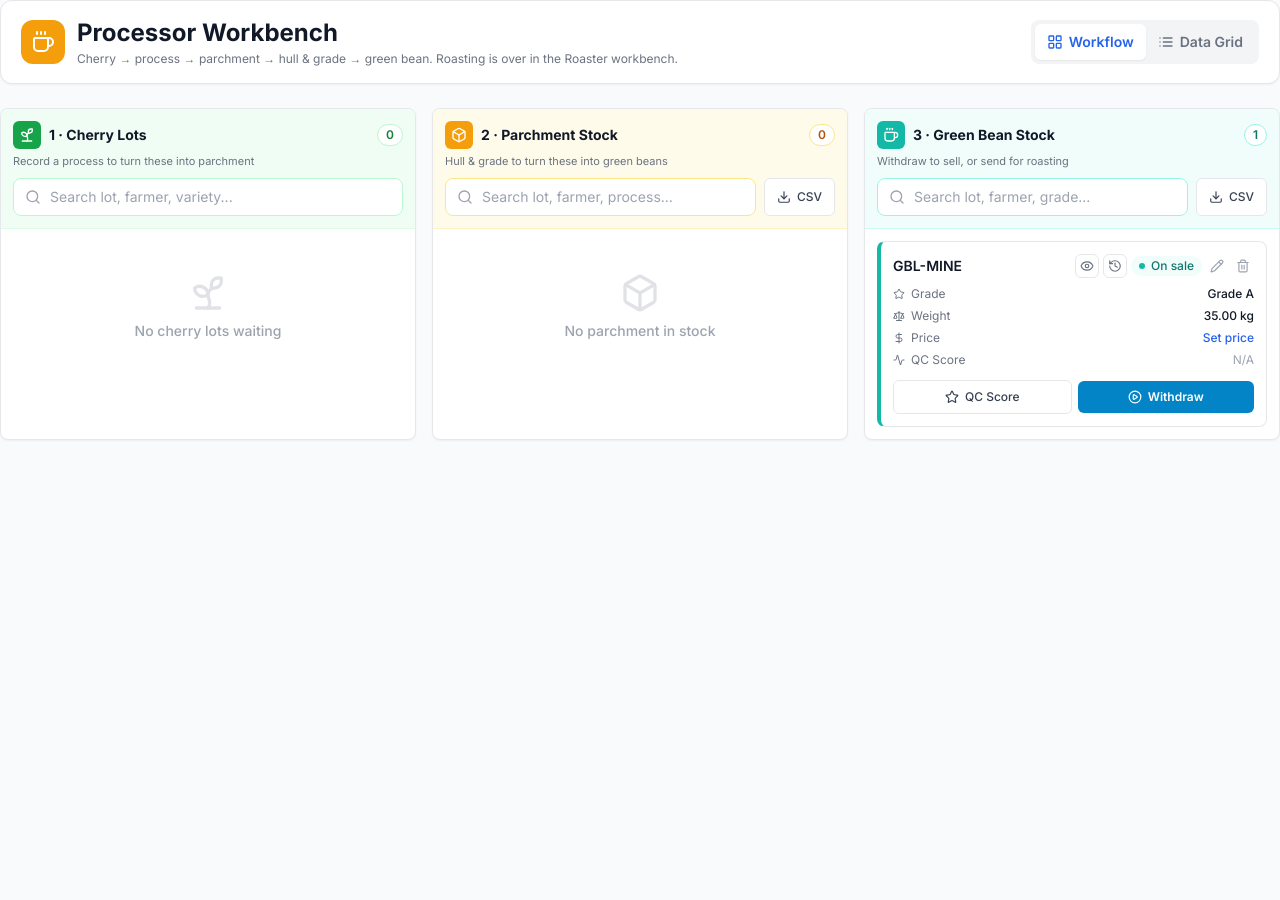
Test: Workbench withdrawal Void and Edit (D7) › shows a voided row struck through with its reason, and leaves it out of the totals
Click the button "Data Grid".
click(1200, 42)  # box [1146,24,1255,60]
(page scrolled)
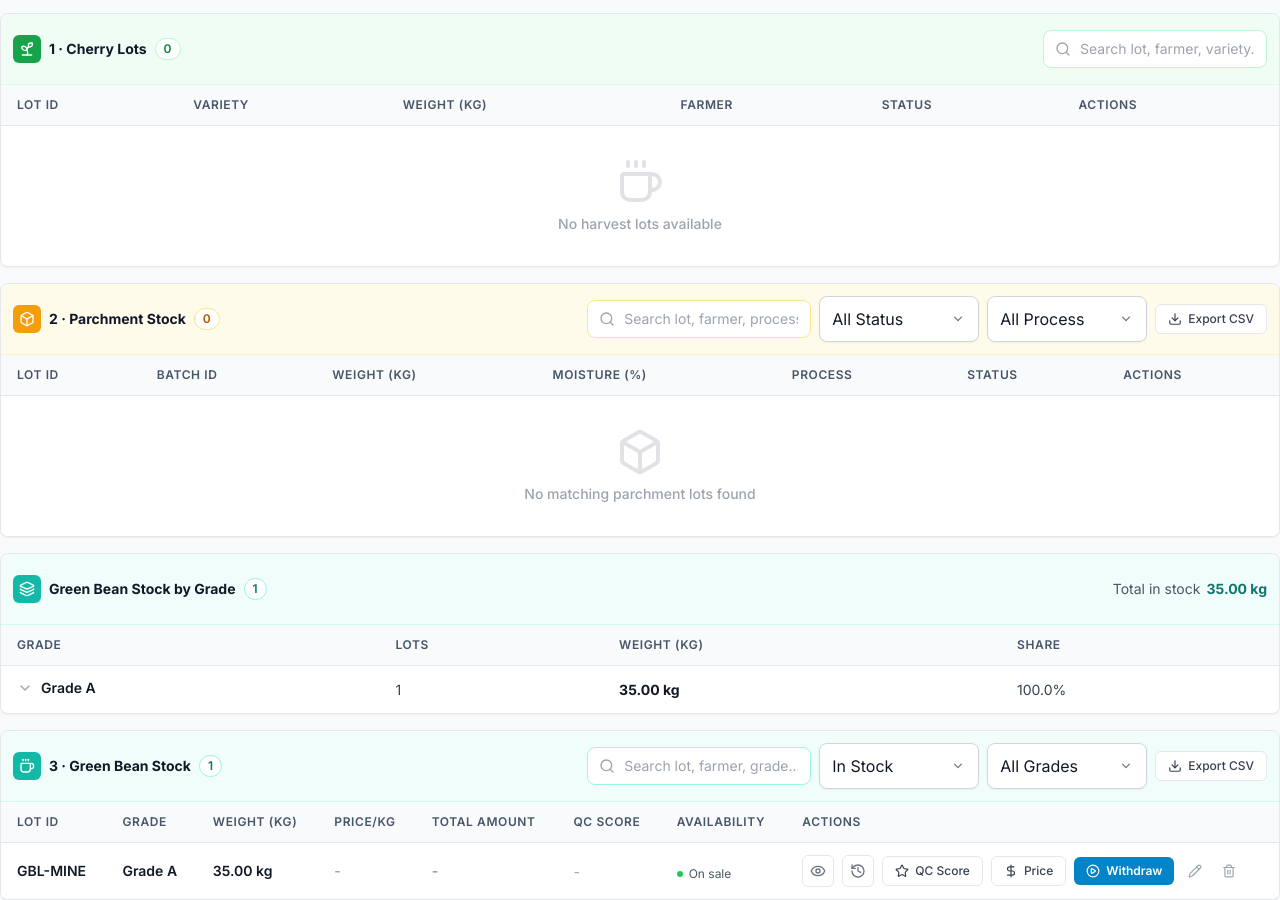
Click the button named "Withdrawal history of green bean lot ".
click(858, 871)  # box [842,855,874,887]
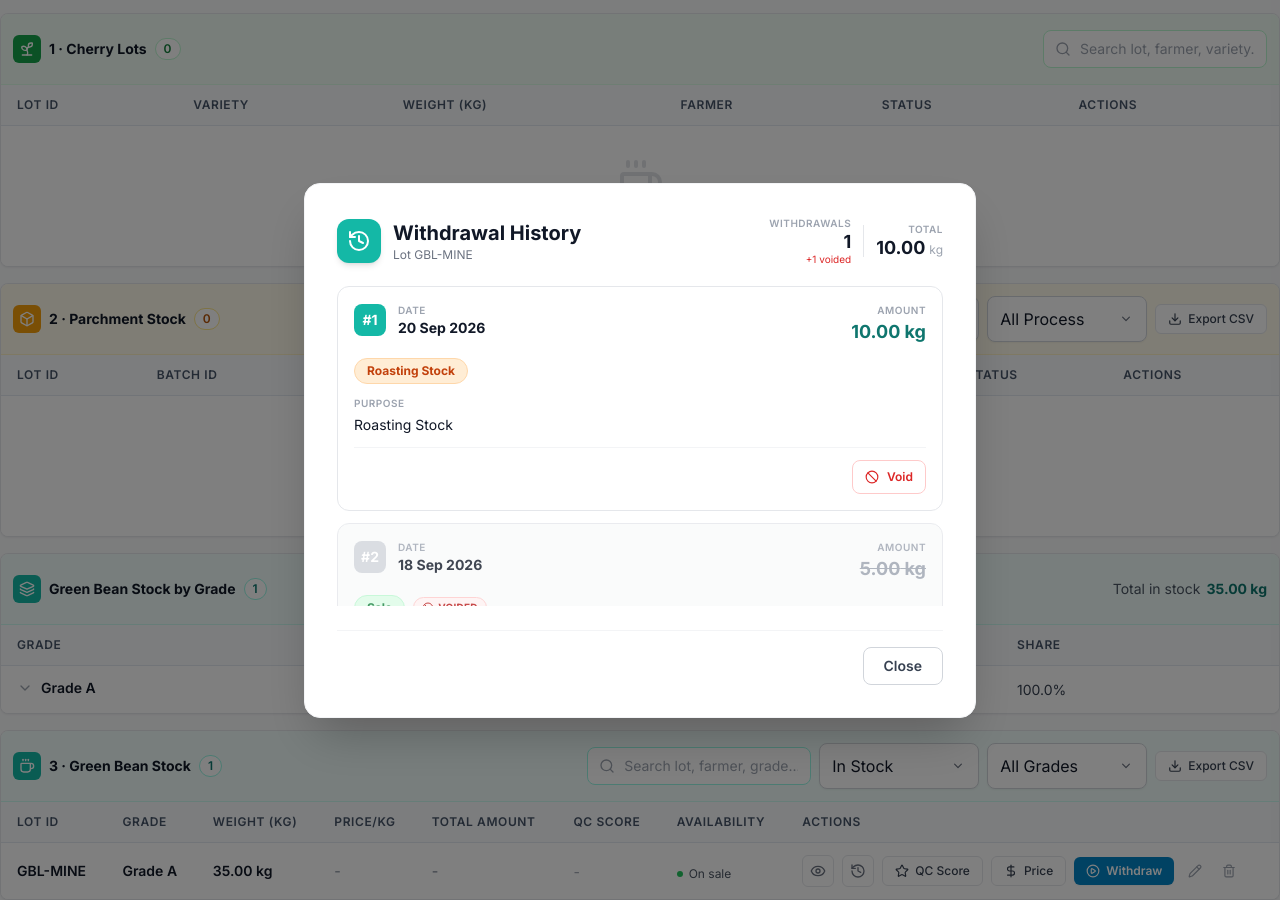
expect the text "1" is shown: met, box [843,230,851,252]
expect the text "+1 voided" is shown: met, box [806,253,851,265]
